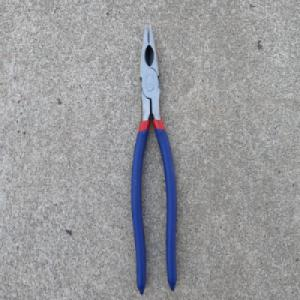Pliers: (130, 21, 177, 296)
